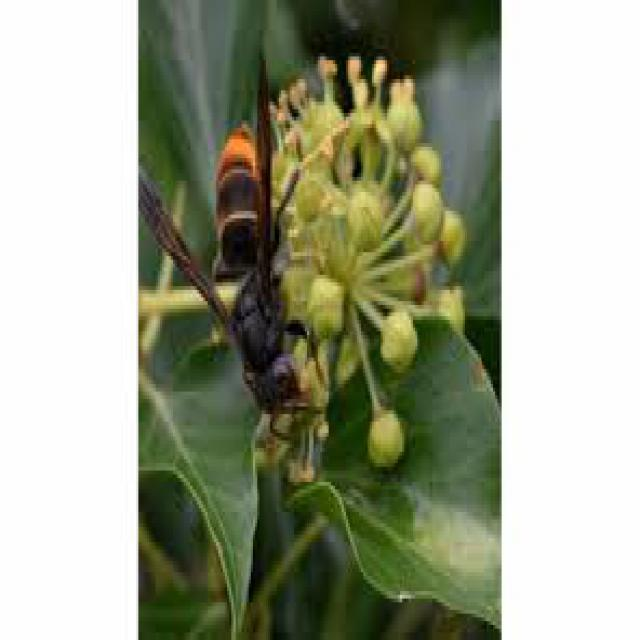Vespa Velutina: (139, 38, 358, 468)
